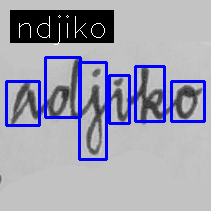a: (8, 80, 39, 127)
d: (45, 53, 83, 121)
i: (109, 74, 131, 124)
j: (84, 66, 106, 158)
k: (136, 64, 167, 127)
o: (173, 81, 201, 123)
